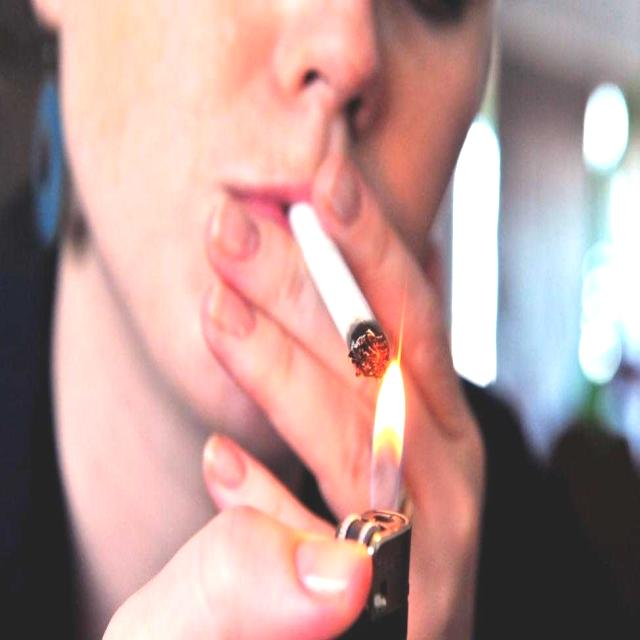Smooking: (284, 200, 398, 385)
